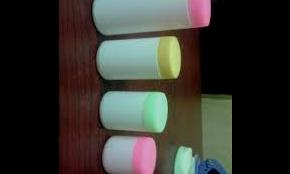Plastic: (89, 0, 211, 38), (96, 136, 157, 173)
